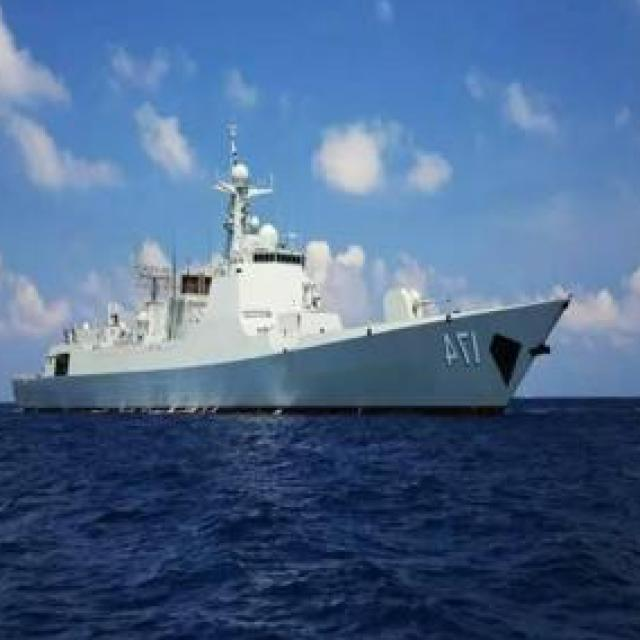navalvessels: (4, 149, 580, 428)
